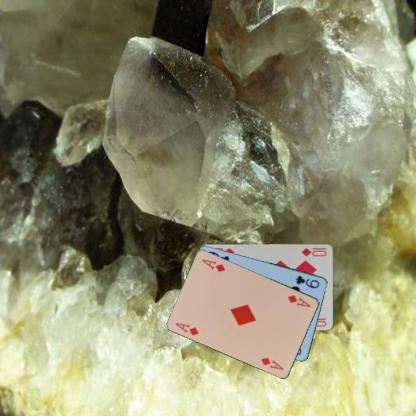10d: (298, 245, 328, 257)
9c: (293, 272, 321, 290)
Ad: (173, 320, 200, 337), (286, 292, 312, 308)
